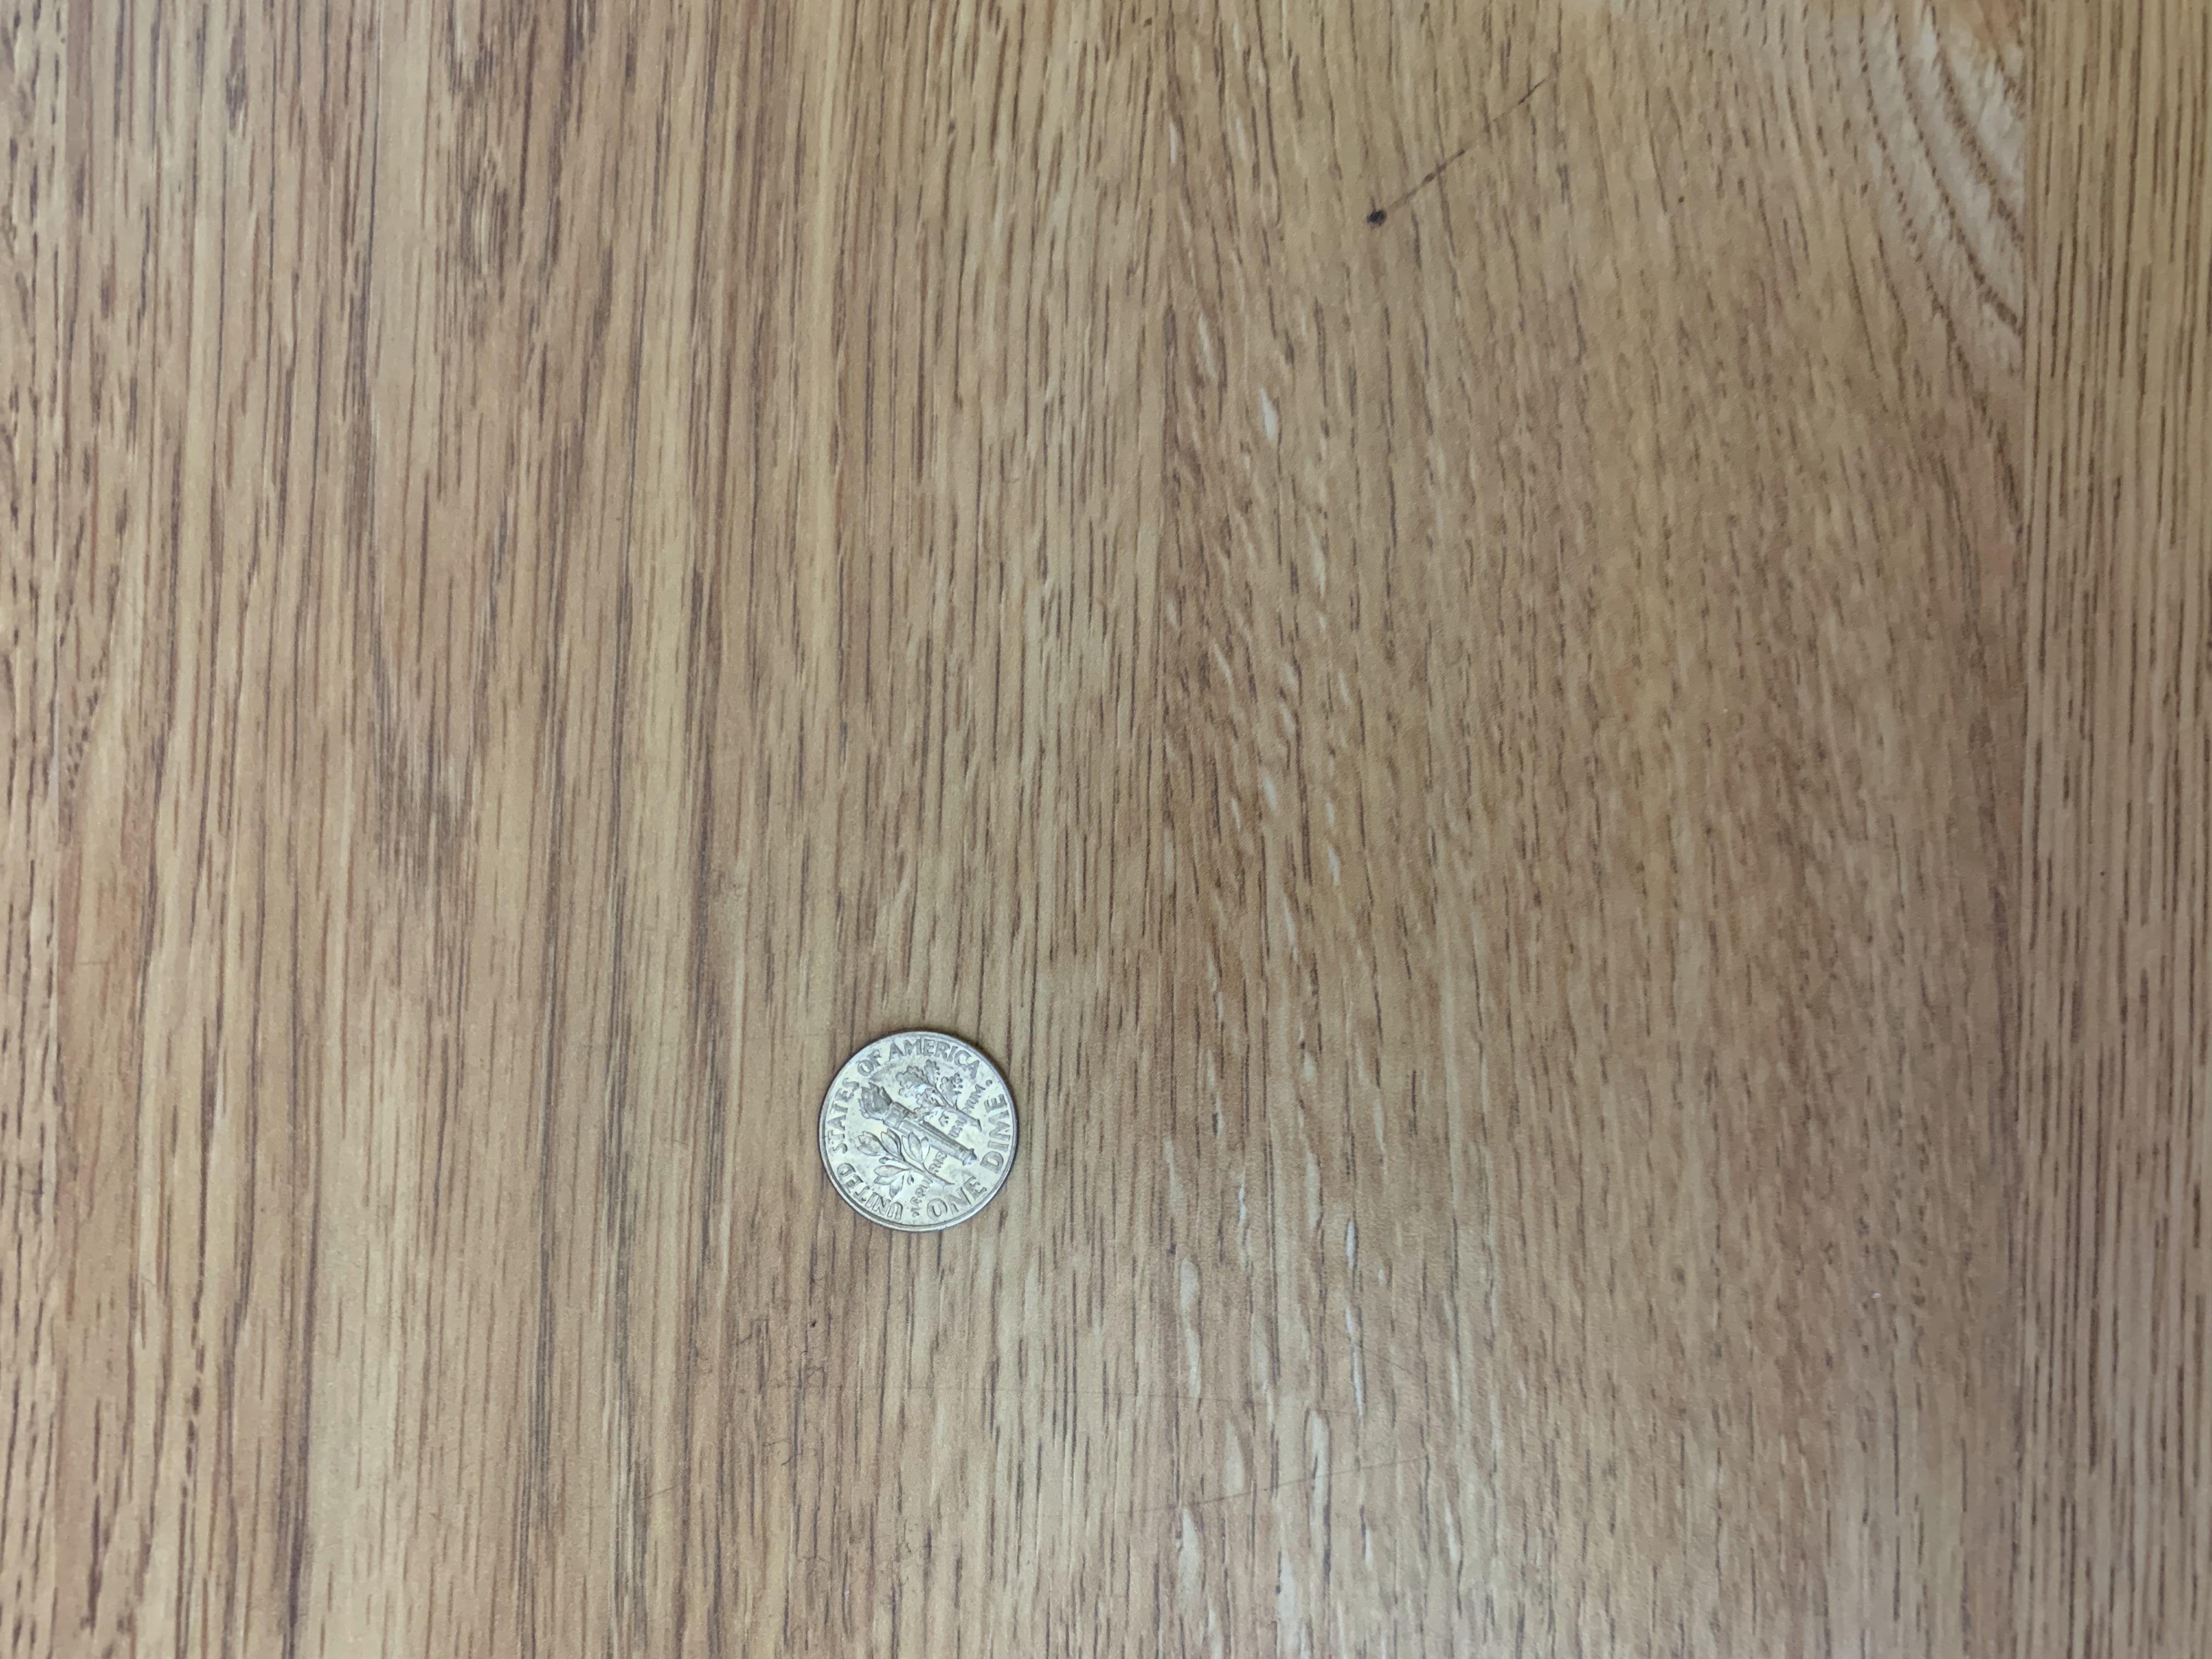Dime: (808, 1025, 1028, 1241)
